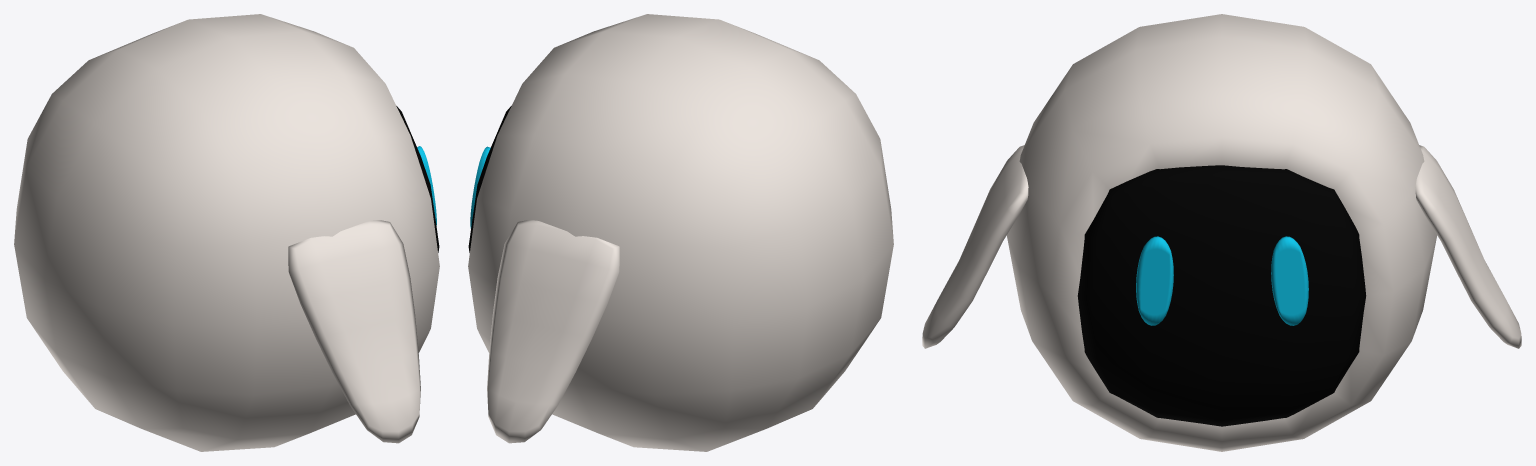
Rendered from robot.gltf.
3 views of the same model, side by side, from view 1: azimuth 30°, elevation 25°; view 2: azimuth 150°, elevation 25°; view 3: azimuth 270°, elevation 25° (orthographic).
Visible parts, largest first — view 1: Cube, Plane, Cube.001; view 2: Cube, Plane, Cube.001; view 3: Cube, Cube.001, Plane, Plane.001.
Boxes of the visible parts, box(x1,y1,x2,y2) form: Cube: box(14, 14, 439, 451); Plane: box(288, 220, 420, 443); Cube.001: box(396, 106, 439, 252); Cube: box(468, 14, 893, 451); Plane: box(487, 220, 619, 443); Cube.001: box(468, 106, 511, 252); Cube: box(1006, 14, 1437, 451); Cube.001: box(1077, 165, 1366, 426); Plane: box(922, 145, 1521, 348); Plane.001: box(1136, 236, 1308, 325).
Bounding box in the file's own units: 1.34 × 1.4 × 1.94.
